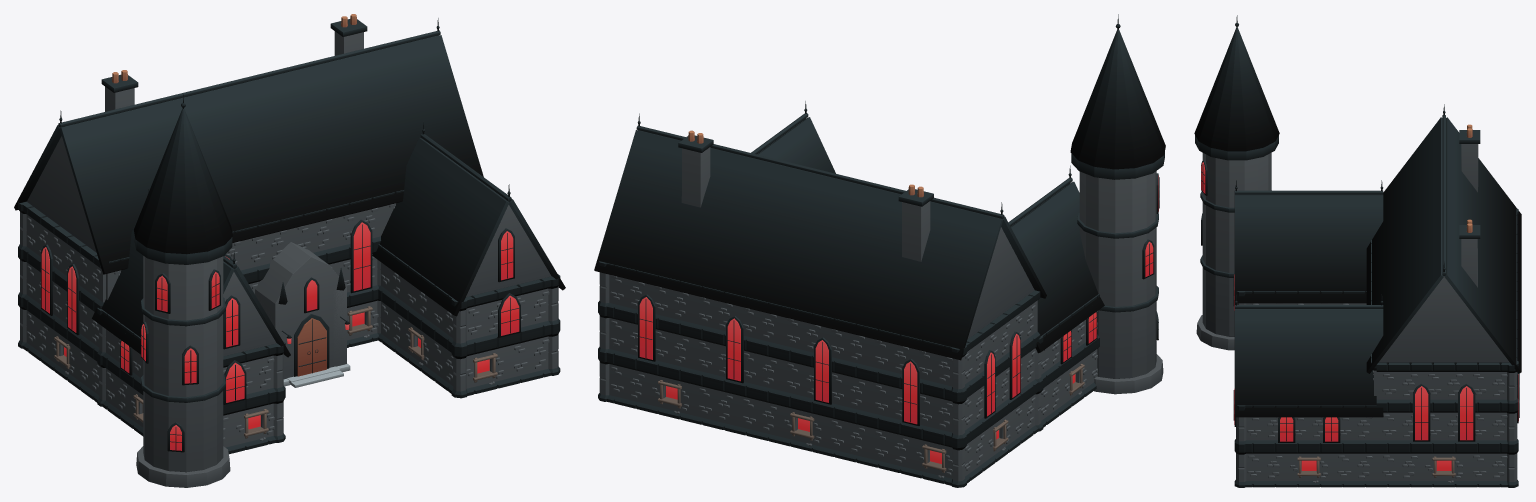
Rendered from morvaine_manor.glb.
The picture shows the model from 3 angles, left to right: view 1: azimuth 30°, elevation 25°; view 2: azimuth 150°, elevation 25°; view 3: azimuth 270°, elevation 25°; orthographic projection. The views are drawn at different scales.
Visible parts, largest first — view 1: morvaine_manor; view 2: morvaine_manor; view 3: morvaine_manor.
Boxes of the visible parts, bbox=[...] form: morvaine_manor: bbox=[14, 14, 565, 487]; morvaine_manor: bbox=[594, 14, 1165, 487]; morvaine_manor: bbox=[1194, 15, 1521, 487].
Bounding box in the file's own units: 27.75 × 23.5 × 21.8.
4 materials, 4 textured.
